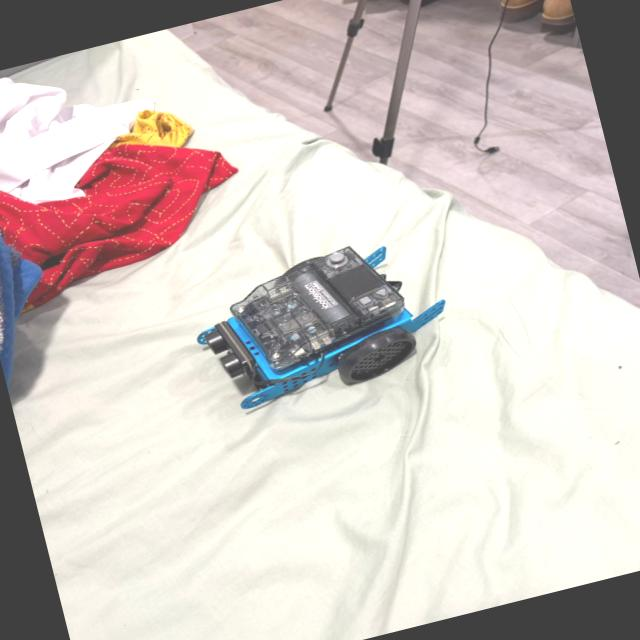mbot-detection: (176, 220, 467, 426)
